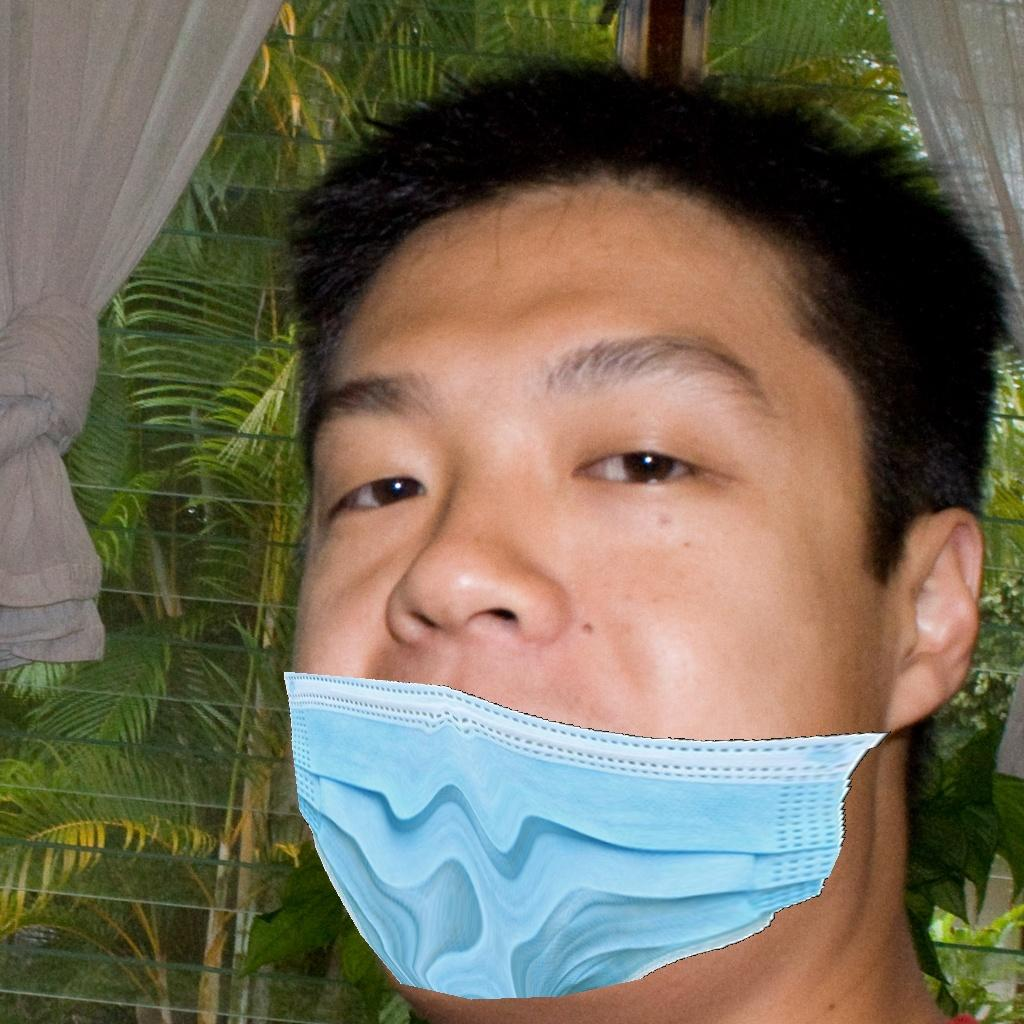Máscara Incorreta: (298, 286, 892, 996)
